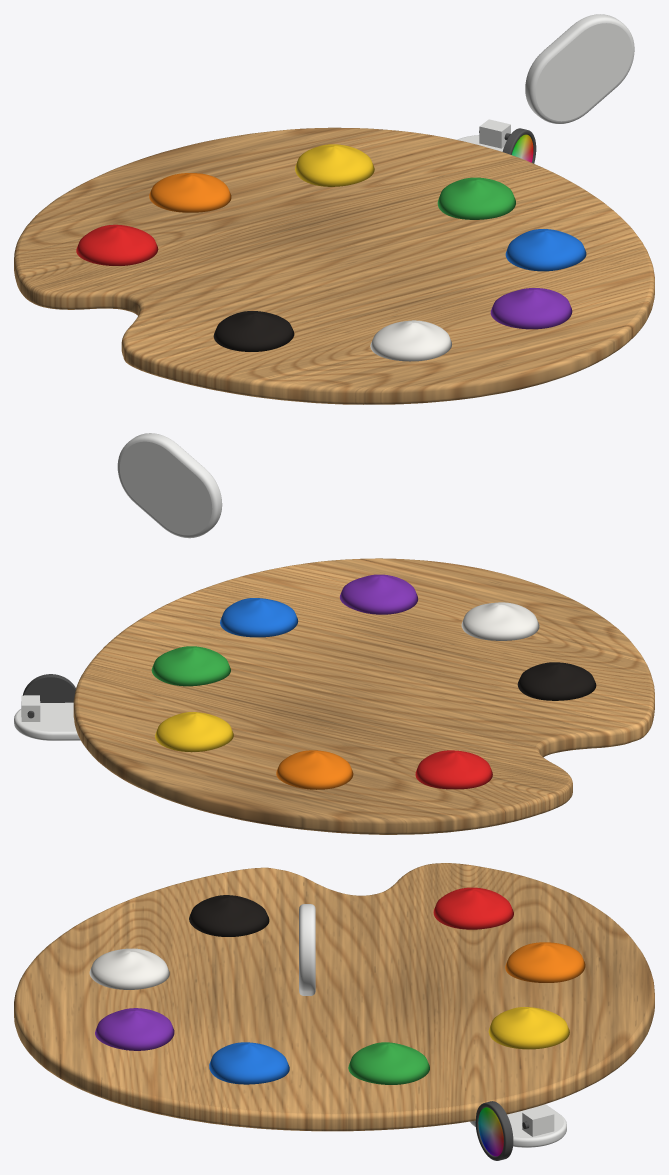
Rendered from Palette.fbx.
The picture shows the model from 3 angles, top to bottom: view 1: azimuth 30°, elevation 25°; view 2: azimuth 150°, elevation 25°; view 3: azimuth 270°, elevation 25°; orthographic projection. The views are drawn at different scales.
Visible parts, largest first — view 1: Palette, ColorPicker_Top, Paint_06, Paint_03, Paint_05, Paint_04, Paint_07, Paint_01, Paint_02, Paint_08, ColorPicker, ColorPicker_Button; view 2: Palette, ColorPicker_Top, Paint_04, Paint_03, Paint_06, Paint_05, Paint_01, Paint_08, Paint_07, Paint_02, ColorPicker, ColorPicker_Button; view 3: Palette, Paint_03, Paint_04, Paint_05, Paint_06, Paint_01, Paint_08, Paint_07, Paint_02, ColorPicker, ColorPicker_Button, ColorPicker_Top.
Part boxes in pixels (x1,y1,x2,y2): Palette: (14, 127, 654, 404); ColorPicker_Top: (525, 14, 634, 123); Paint_06: (490, 288, 572, 329); Paint_03: (295, 144, 374, 186); Paint_05: (505, 229, 586, 271); Paint_04: (437, 177, 515, 219); Paint_07: (370, 320, 451, 361); Paint_01: (76, 224, 158, 265); Paint_02: (149, 173, 231, 212); Paint_08: (213, 311, 294, 351); ColorPicker: (457, 119, 510, 151); ColorPicker_Button: (502, 128, 536, 163); Palette: (73, 558, 654, 834); ColorPicker_Top: (117, 433, 222, 538); Paint_04: (151, 646, 230, 686); Paint_03: (155, 712, 233, 752); Paint_06: (339, 574, 418, 614); Paint_05: (220, 598, 298, 637); Paint_01: (415, 750, 492, 789); Paint_08: (517, 662, 596, 700); Paint_07: (461, 602, 539, 640); Paint_02: (276, 750, 353, 789); ColorPicker: (14, 695, 80, 740); ColorPicker_Button: (22, 674, 75, 702); Palette: (14, 863, 654, 1131); Paint_03: (488, 1007, 569, 1049); Paint_04: (348, 1042, 429, 1084); Paint_05: (209, 1042, 289, 1084); Paint_06: (95, 1008, 174, 1050); Paint_01: (433, 887, 513, 929); Paint_08: (189, 895, 269, 936); Paint_07: (89, 948, 169, 989); Paint_02: (505, 942, 585, 982); ColorPicker: (470, 1104, 566, 1147); ColorPicker_Button: (475, 1101, 513, 1160); ColorPicker_Top: (299, 904, 315, 995).
Bounding box in the file's own units: 0.1594 × 0.068 × 0.1634.
